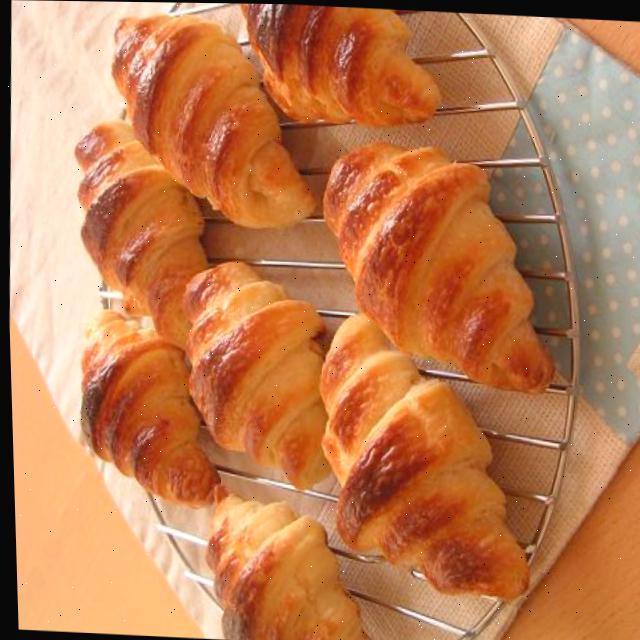面包点心: (29, 0, 600, 640)
